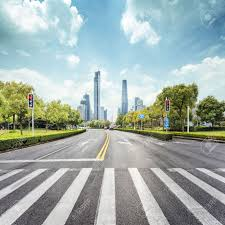strada: (0, 128, 220, 168)
striscie pedonali: (0, 168, 221, 224)
